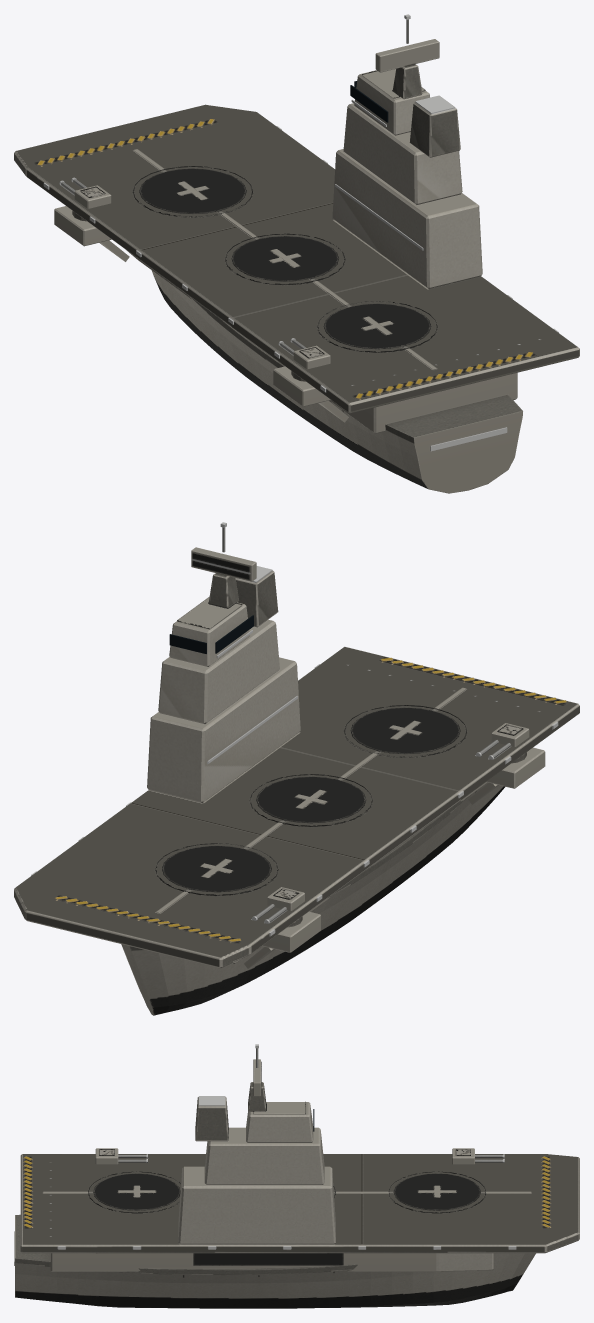
The model's file is ord_sanctuary.fbx.
The picture shows the model from 3 angles, top to bottom: view 1: azimuth 30°, elevation 25°; view 2: azimuth 150°, elevation 25°; view 3: azimuth 270°, elevation 25°; orthographic projection. The views are drawn at different scales.
Parts seen in each view (by area): view 1: base_bar, radar_bar, base_glow_running_bar, turret2_bar, turret1_bar; view 2: base_bar, radar_bar, turret2_bar, turret1_bar, base_glow_running_bar; view 3: base_bar, turret2_bar, turret1_bar.
Part boxes in pixels (box(x1,y1,x2,y2)): base_bar: box(14, 19, 579, 493); radar_bar: box(375, 39, 439, 72); base_glow_running_bar: box(43, 14, 558, 451); turret2_bar: box(280, 339, 330, 381); turret1_bar: box(61, 179, 111, 221); base_bar: box(14, 527, 579, 1015); radar_bar: box(191, 547, 256, 581); turret2_bar: box(479, 723, 529, 763); turret1_bar: box(255, 887, 304, 927); base_glow_running_bar: box(31, 522, 558, 936); base_bar: box(15, 1048, 579, 1308); turret2_bar: box(95, 1148, 146, 1164); turret1_bar: box(452, 1148, 503, 1164).
Bounding box in the file's own units: 1200 × 1732 × 3016.
Materials: 2 (2 with a texture image).
